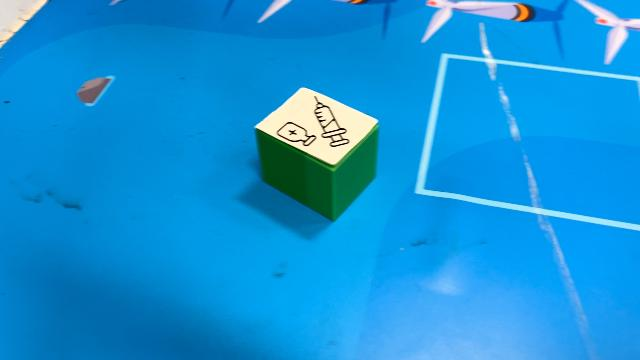syringe: (254, 88, 380, 224)
